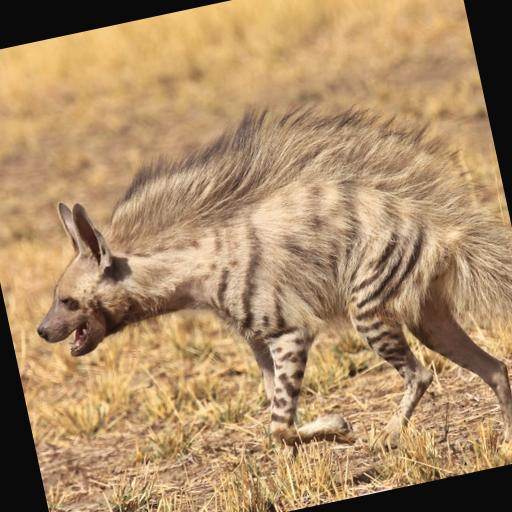hyenas: (0, 78, 512, 512)
